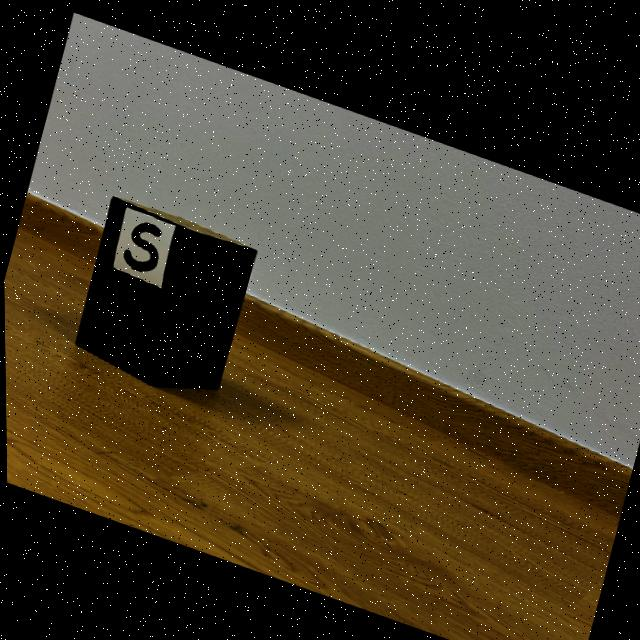S: (122, 220, 161, 269)
